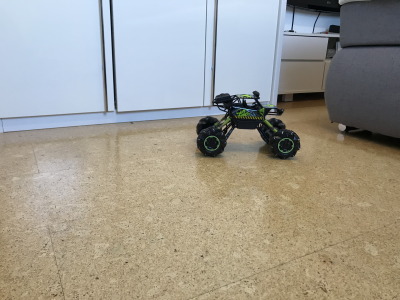remote control car: (192, 88, 303, 160)
